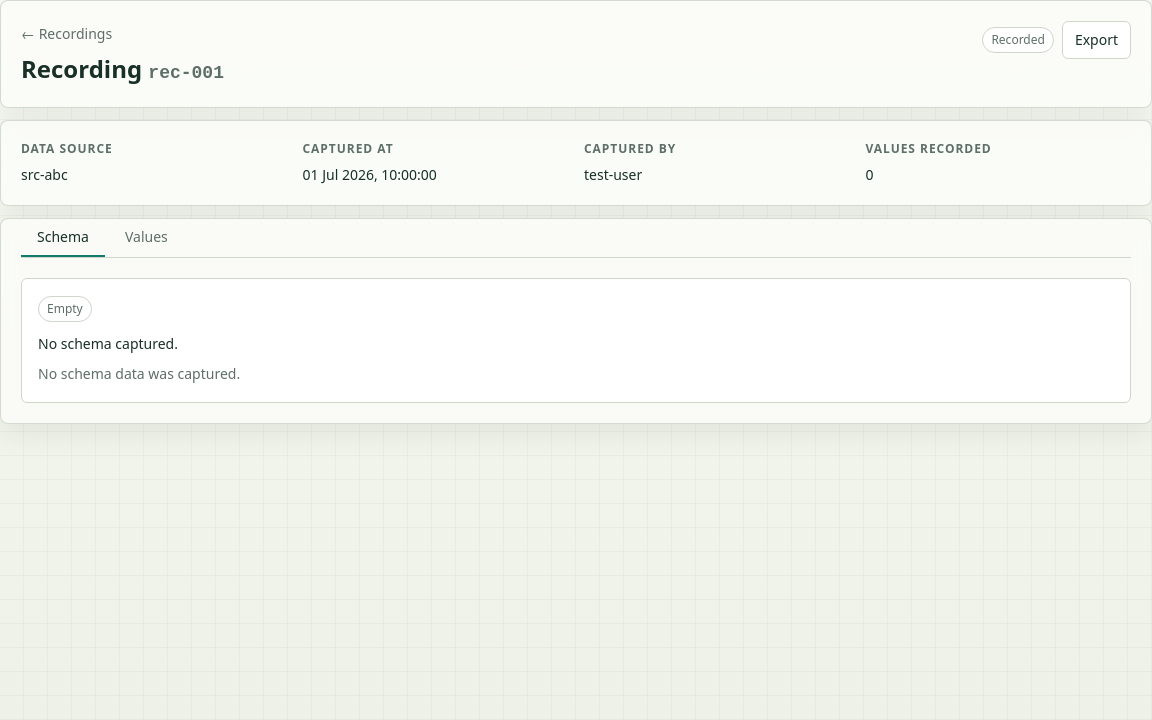
Scenario: RecordingDetailPage — values tab empty state › shows empty state on Values tab when valueCount is 0
This screenshot has width=1152, height=720.
Click the button "Values": coordinates (146, 238) x1=109 y1=219 x2=184 y2=257
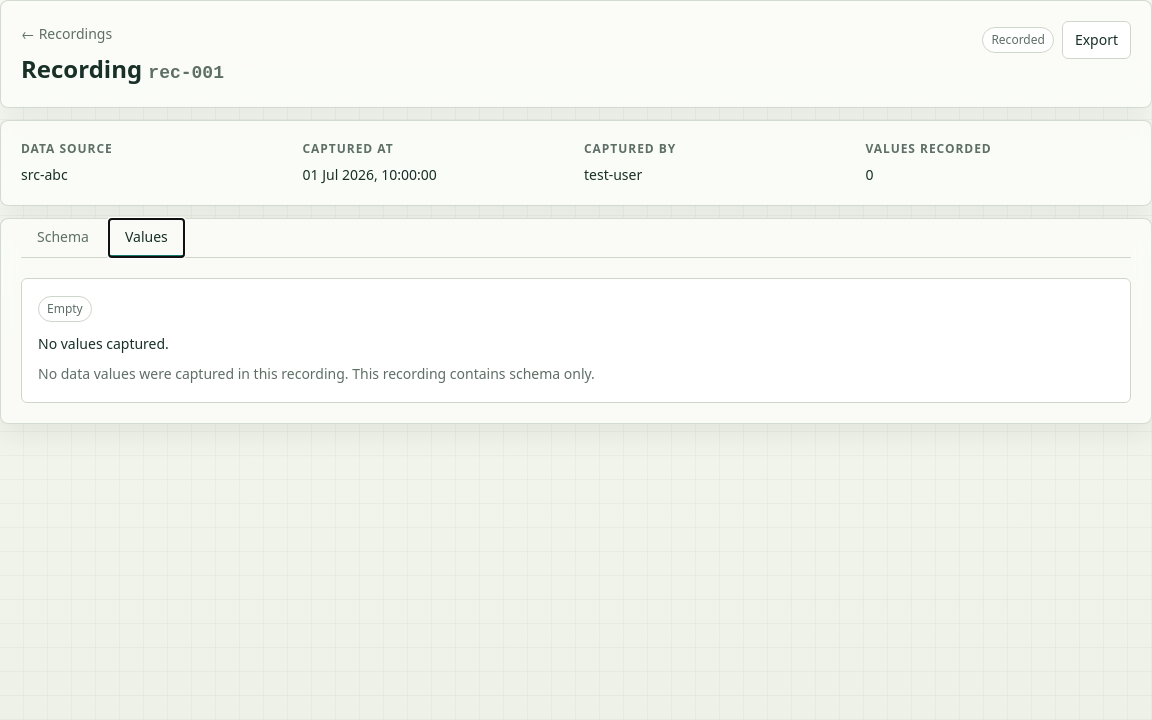
expect the heading "No values captured." is shown: met, box x1=38 y1=334 x2=169 y2=353
